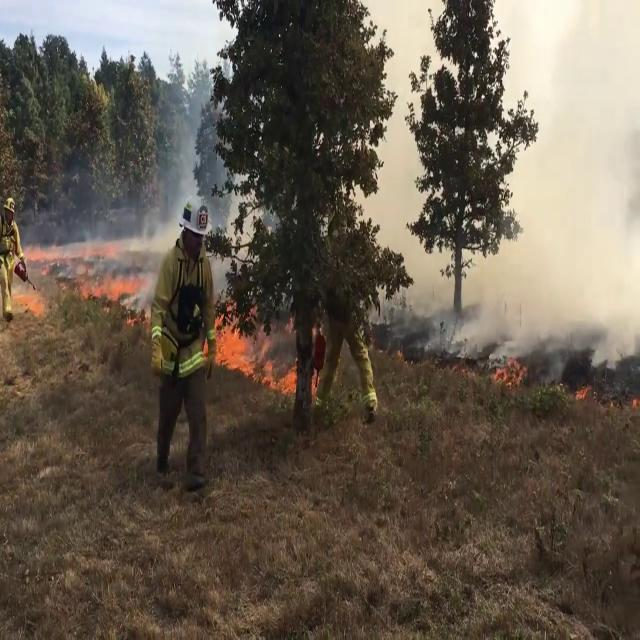Fire: (209, 307, 296, 396), (81, 253, 156, 327), (490, 341, 530, 394), (570, 374, 594, 406)
Smoke: (441, 1, 640, 366), (128, 67, 220, 291)
